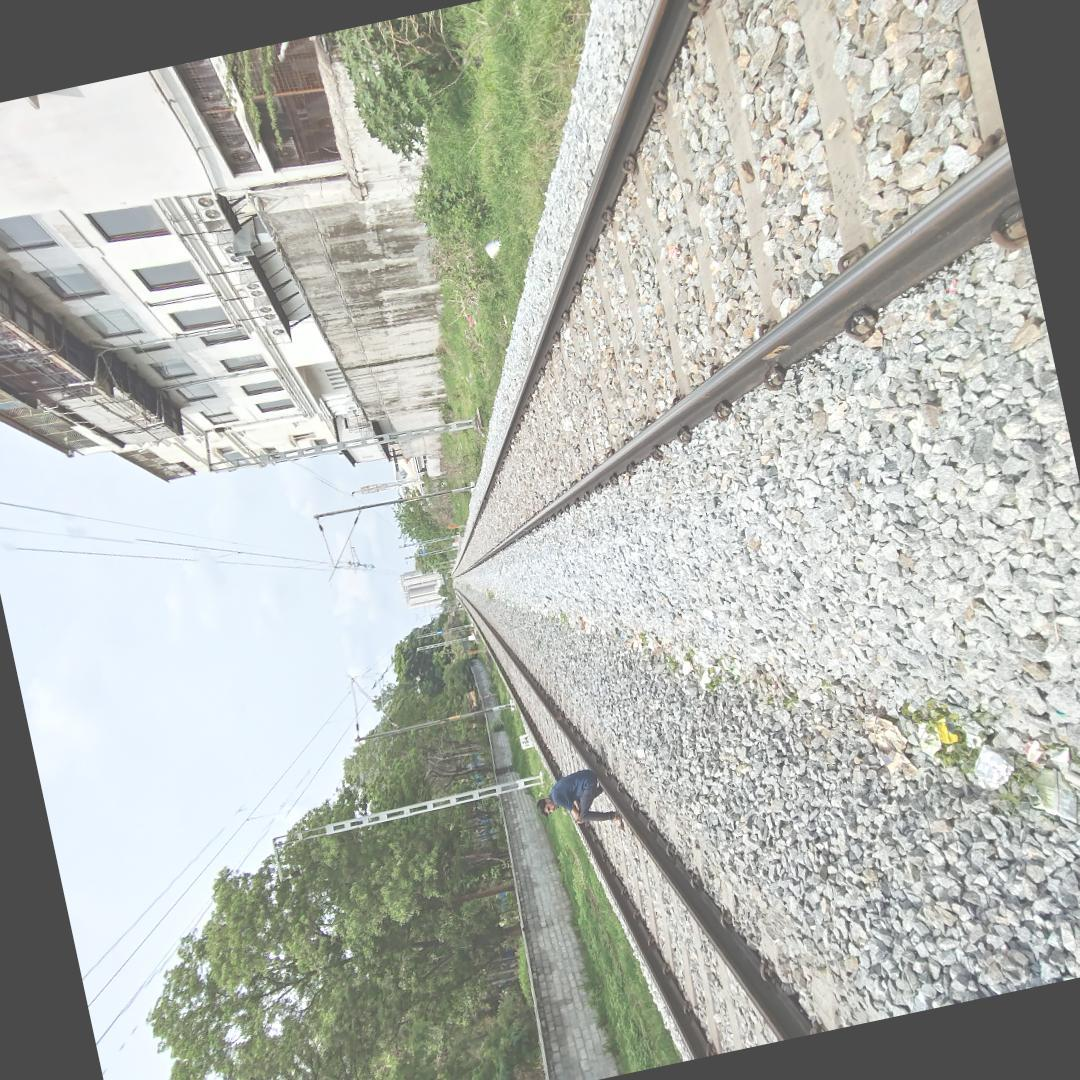sitting: (532, 761, 630, 843)
track: (442, 587, 847, 1065)
